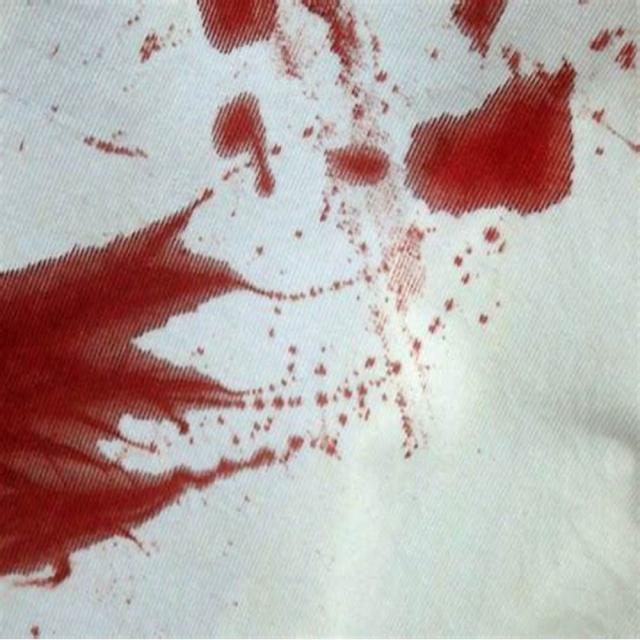wound: (0, 0, 554, 457), (0, 200, 330, 582), (358, 0, 584, 255), (160, 3, 396, 195)
